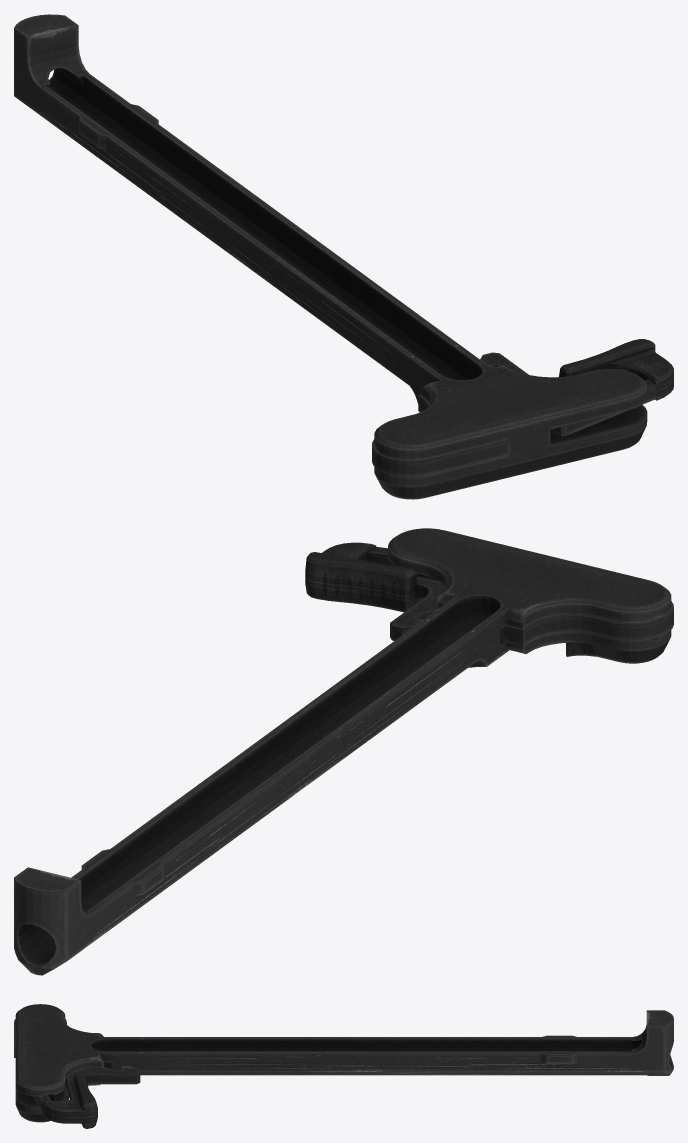
The picture shows the model from 3 angles, top to bottom: view 1: azimuth 30°, elevation 25°; view 2: azimuth 150°, elevation 25°; view 3: azimuth 270°, elevation 25°; orthographic projection. The views are drawn at different scales.
Visible parts, largest first — view 1: TW_5bb20dbcd4351e44f824c04e_PZ_Import; view 2: TW_5bb20dbcd4351e44f824c04e_PZ_Import; view 3: TW_5bb20dbcd4351e44f824c04e_PZ_Import.
Part boxes in pixels (box(x1,y1,x2,y2)): TW_5bb20dbcd4351e44f824c04e_PZ_Import: box(14, 14, 673, 499); TW_5bb20dbcd4351e44f824c04e_PZ_Import: box(14, 528, 673, 975); TW_5bb20dbcd4351e44f824c04e_PZ_Import: box(14, 1004, 673, 1128).
Size of the model in its own units: 0.0358 by 0.0989 by 0.0109.
Materials: 1 (1 with a texture image).
